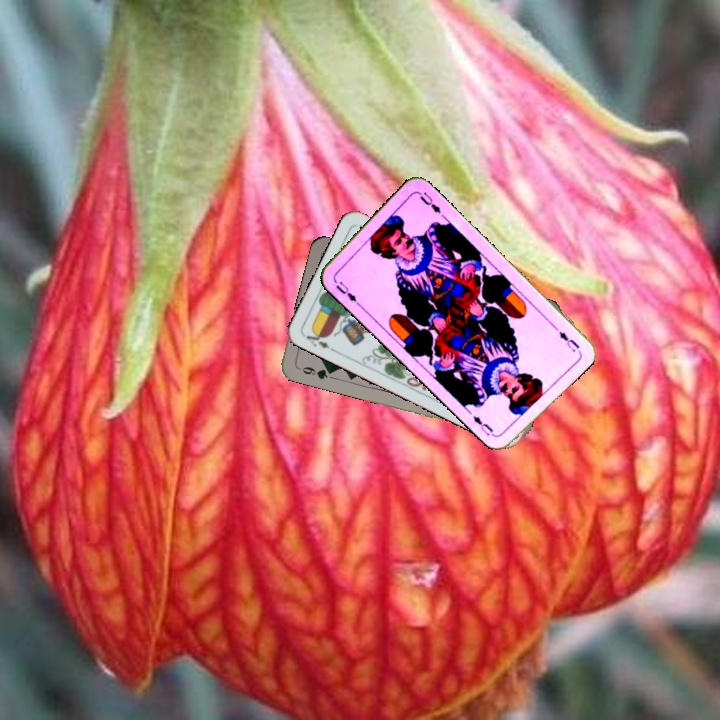EA: (300, 326, 338, 354)
EU: (330, 276, 363, 308), (555, 327, 582, 355)
G9: (298, 363, 334, 382)
